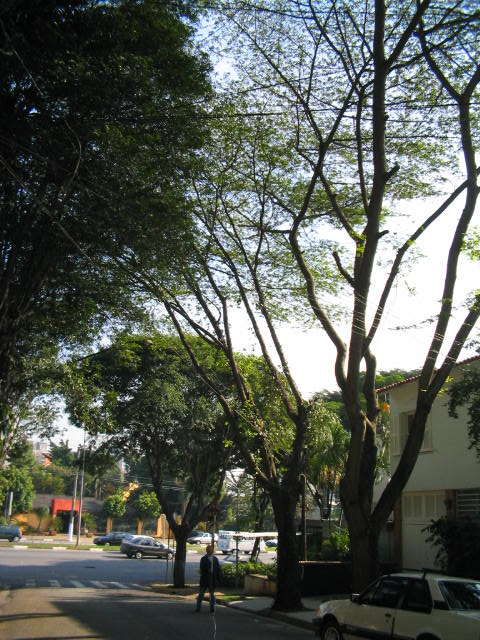crown: (72, 334, 274, 484)
stem: (256, 492, 315, 611), (167, 528, 195, 587)
stick: (205, 497, 222, 614)
tree: (72, 333, 275, 589)
